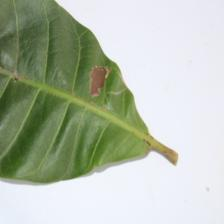leaf miner: (0, 0, 179, 184)
